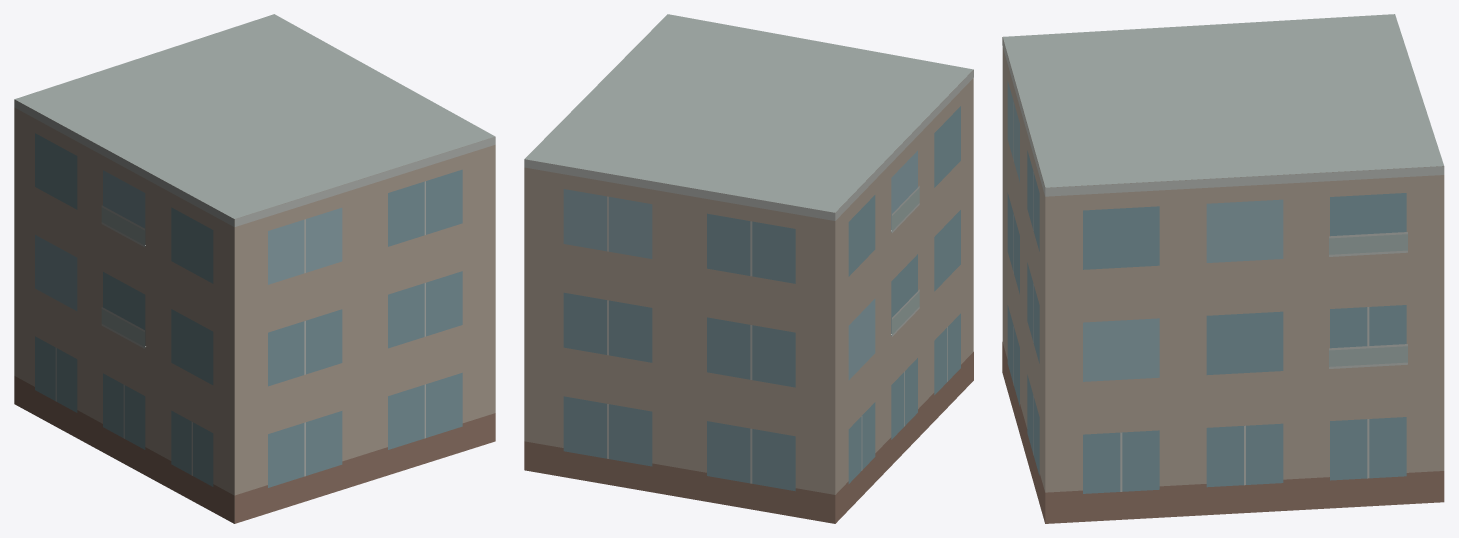
File: survey-upis-32535514.glb
3 views of the same model, side by side, from view 1: azimuth 30°, elevation 25°; view 2: azimuth 150°, elevation 25°; view 3: azimuth 270°, elevation 25° (orthographic). The views are drawn at different scales.
Parts seen in each view (by area): view 1: survey-upis-32535514.tmp; view 2: survey-upis-32535514.tmp; view 3: survey-upis-32535514.tmp.
Boxes of the visible parts, <box> form: survey-upis-32535514.tmp: <box>14,14,495,523</box>; survey-upis-32535514.tmp: <box>524,14,973,523</box>; survey-upis-32535514.tmp: <box>1002,14,1444,523</box>.
Bounding box in the file's own units: 10.15 × 9.15 × 10.91.
